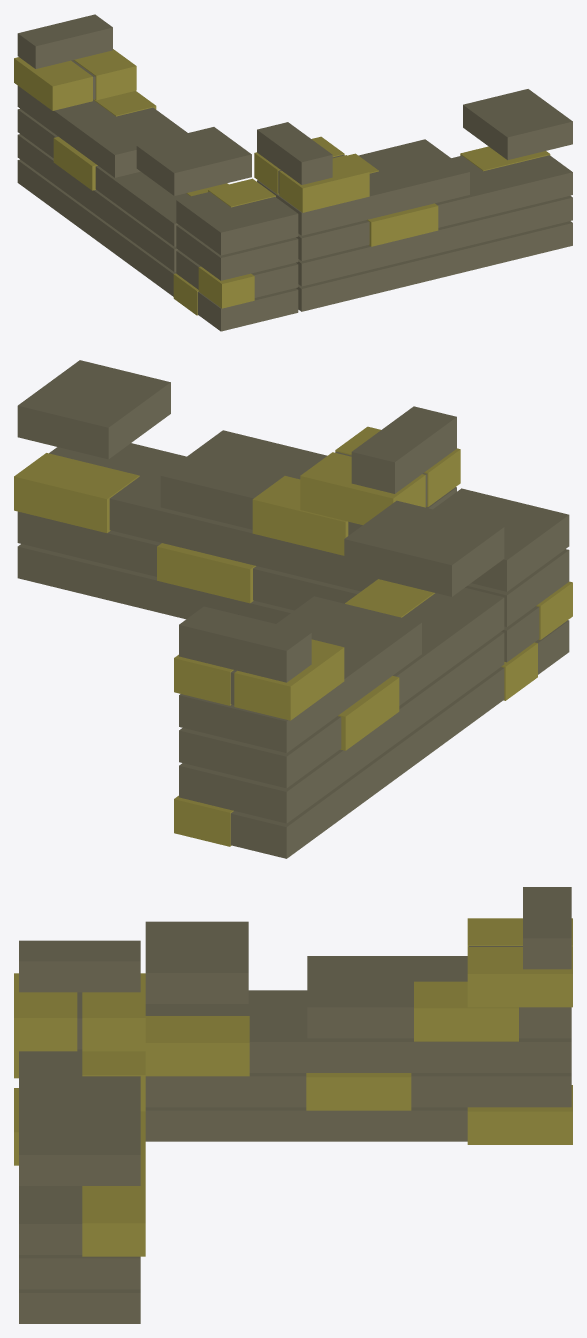
Rendered from SM_PretilEsquina_v2_Irregular_e0_Sano_LOD1.fbx.
The picture shows the model from 3 angles, top to bottom: view 1: azimuth 30°, elevation 25°; view 2: azimuth 150°, elevation 25°; view 3: azimuth 270°, elevation 25°; orthographic projection. The views are drawn at different scales.
Parts seen in each view (by area): view 1: SM_pretil_azotea_v28_LOD1; view 2: SM_pretil_azotea_v28_LOD1; view 3: SM_pretil_azotea_v28_LOD1.
Boxes of the visible parts, box(x1,y1,x2,y2) form: SM_pretil_azotea_v28_LOD1: box(14, 14, 572, 331); SM_pretil_azotea_v28_LOD1: box(14, 360, 572, 858); SM_pretil_azotea_v28_LOD1: box(14, 887, 572, 1323).
Size of the model in its own units: 4.41 by 1.78 by 4.41.
